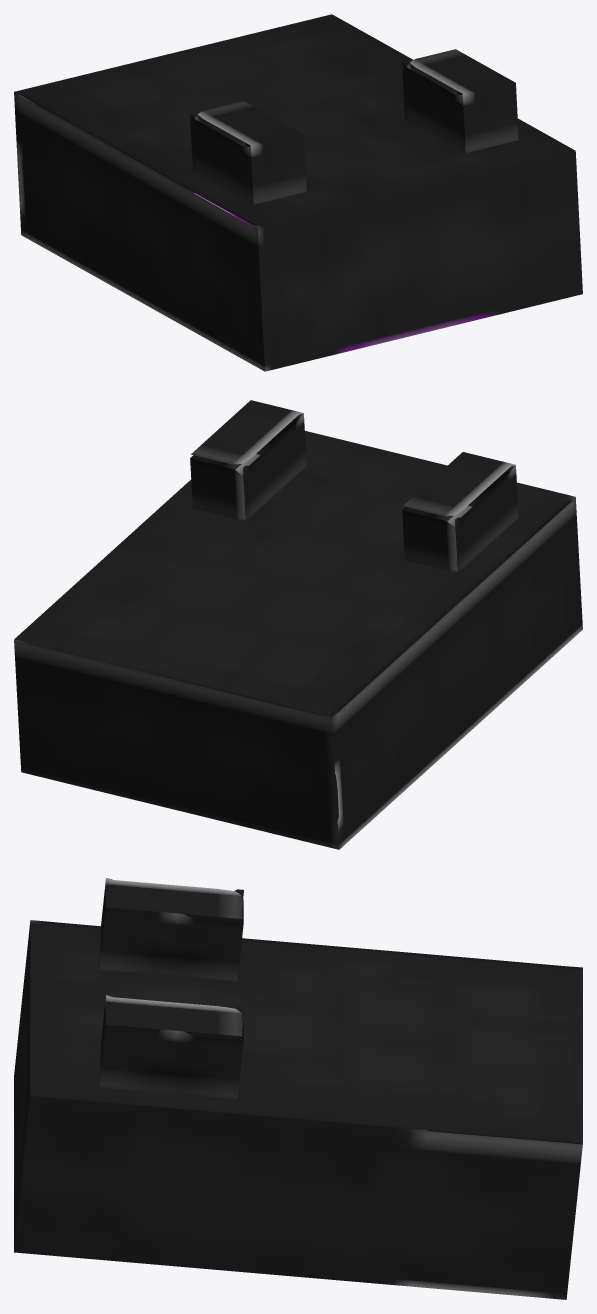
The model's file is bocaSuperior.obj.
The picture shows the model from 3 angles, top to bottom: view 1: azimuth 30°, elevation 25°; view 2: azimuth 150°, elevation 25°; view 3: azimuth 270°, elevation 25°; orthographic projection. The views are drawn at different scales.
Parts seen in each view (by area): view 1: Enderdragon_Malla; view 2: Enderdragon_Malla; view 3: Enderdragon_Malla.
Part boxes in pixels (x1,y1,x2,y2): Enderdragon_Malla: (14,14,582,371); Enderdragon_Malla: (14,400,582,849); Enderdragon_Malla: (14,878,582,1299).
Bounding box in the file's own units: 1.91 × 1.32 × 2.61.
Materials: 1 (1 with a texture image).
